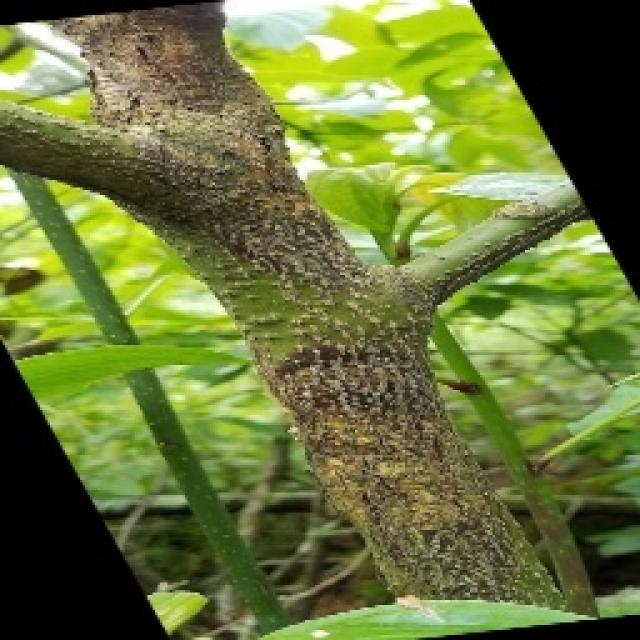Golden_canker: (1, 9, 618, 640)
